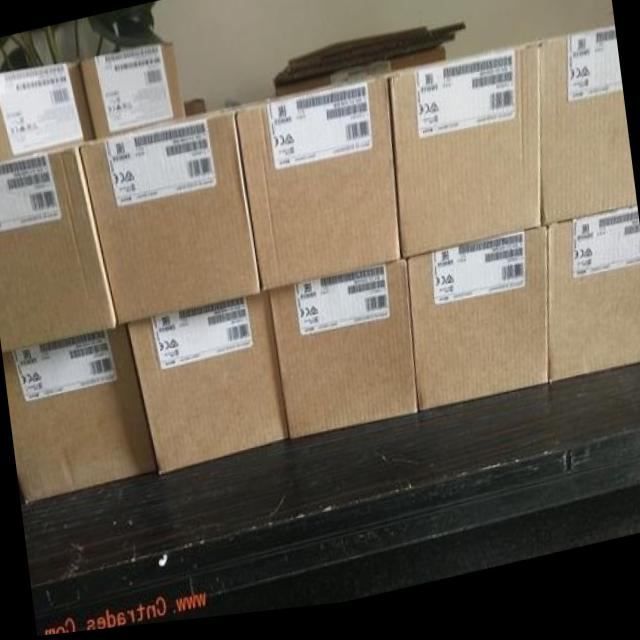box: (82, 115, 261, 327), (375, 56, 541, 267), (236, 84, 400, 296), (125, 295, 288, 477), (3, 327, 155, 504), (267, 268, 418, 444), (406, 238, 548, 418), (0, 143, 117, 351), (529, 42, 637, 237), (546, 219, 640, 394), (79, 45, 184, 138), (0, 62, 90, 159)
